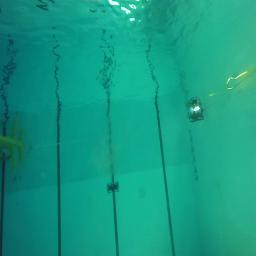Side: (107, 181, 119, 191)
front: (187, 106, 204, 122)
